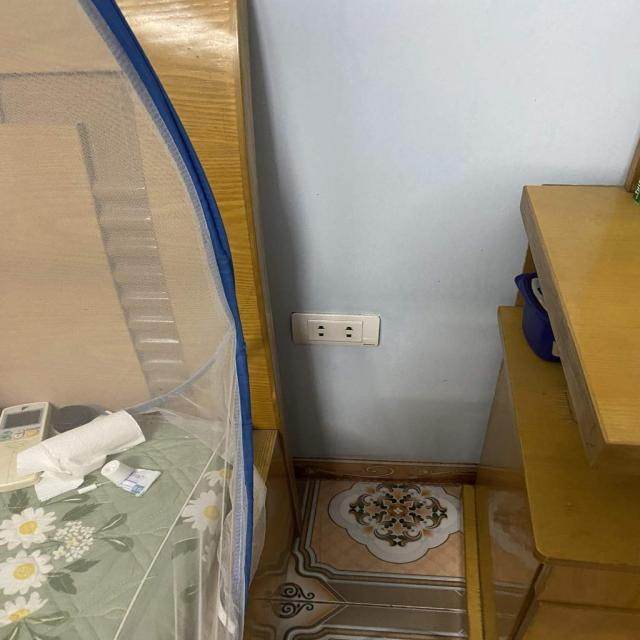outlet: (290, 312, 380, 346)
